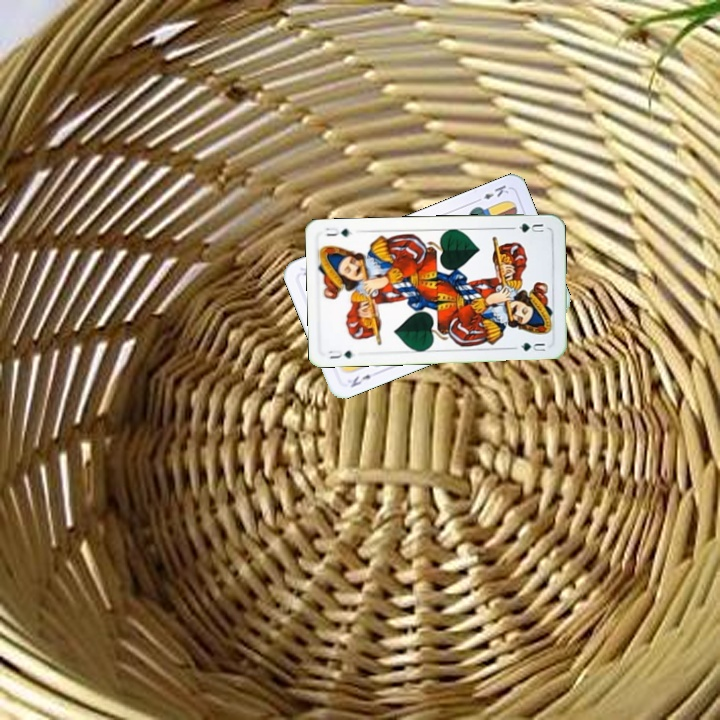EK: (471, 181, 511, 205), (346, 370, 374, 390)
GU: (508, 219, 546, 235), (325, 346, 355, 361)
